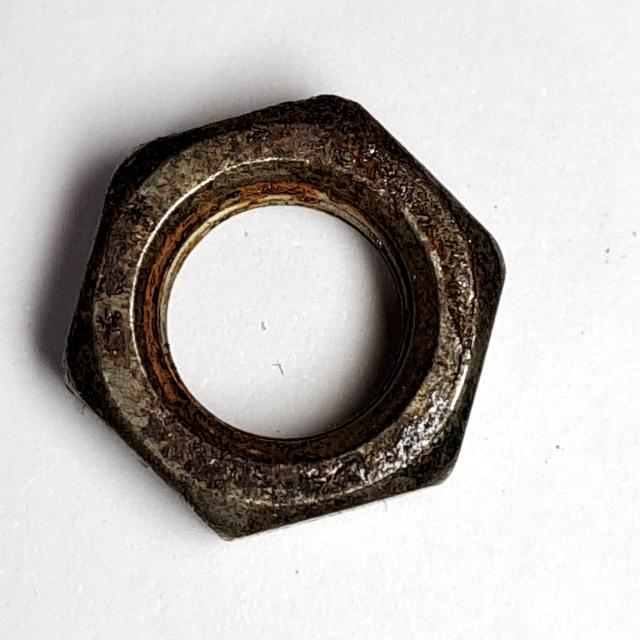Rust: (49, 87, 516, 556)
